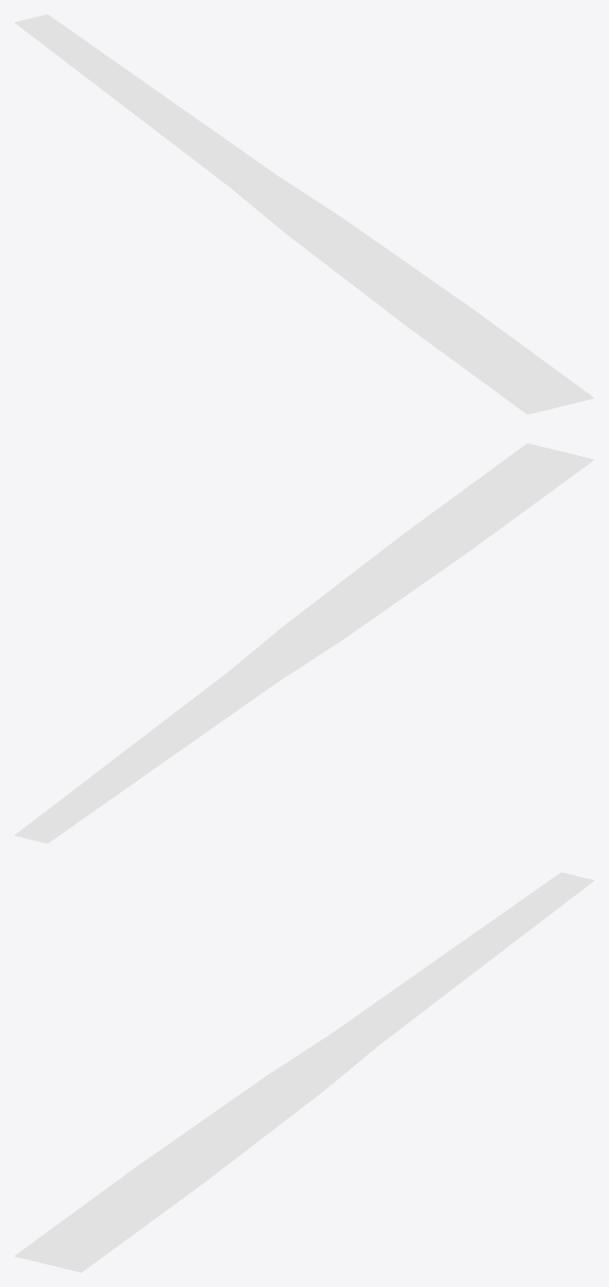
Rendered from boat_trail_B.fbx.
3 renders of one model, top to bottom at view 1: azimuth 30°, elevation 25°; view 2: azimuth 150°, elevation 25°; view 3: azimuth 330°, elevation 25°, orthographic.
Parts seen in each view (by area): view 1: trail_A_line, trail_A_fade; view 2: trail_A_line, trail_A_fade; view 3: trail_A_line, trail_A_fade.
Boxes of the visible parts, x1,y1,x2,y2 form: trail_A_line: (14,14,472,325); trail_A_fade: (406,309,594,414); trail_A_line: (14,532,472,843); trail_A_fade: (406,443,594,548); trail_A_line: (136,872,594,1183); trail_A_fade: (14,1167,202,1272).
Size of the model in its own units: 76.2 by 0 by 1037.
